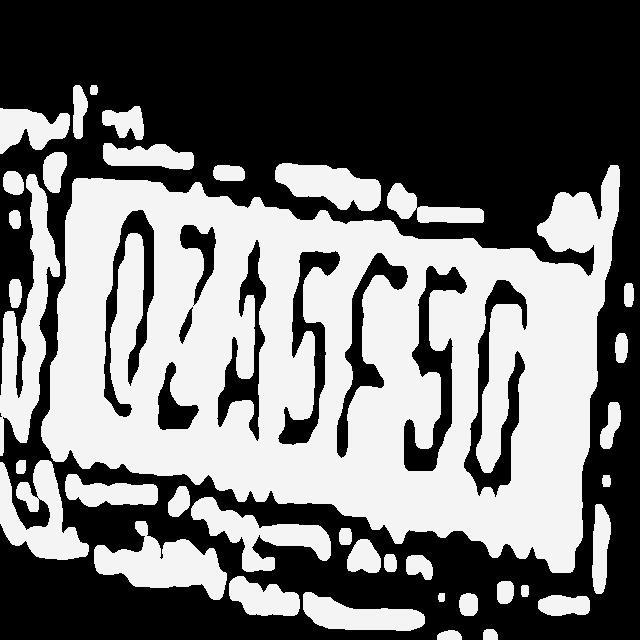0: (466, 273, 534, 503)
5: (402, 257, 466, 482), (282, 241, 334, 451)
a: (216, 234, 272, 442)
f: (340, 246, 400, 464)
q: (100, 208, 158, 427)
z: (158, 217, 218, 435)
